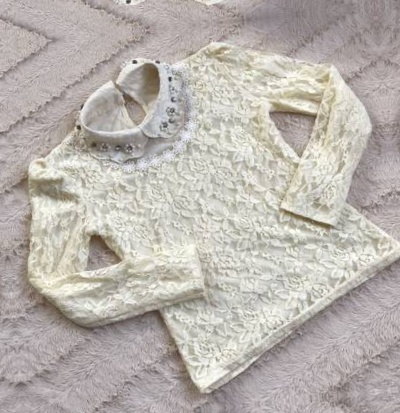Blouse: (11, 39, 400, 391), (383, 0, 400, 352), (0, 0, 367, 11)
